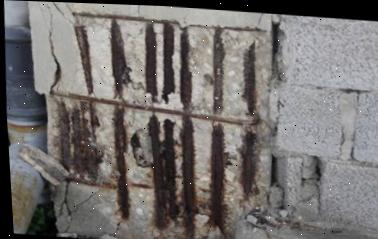exposed_rebar: (51, 92, 255, 124), (149, 115, 178, 228), (62, 100, 99, 179), (181, 114, 197, 237), (210, 121, 226, 228), (114, 105, 127, 218), (75, 25, 93, 94), (72, 12, 179, 23), (113, 21, 127, 97), (241, 129, 256, 198), (213, 27, 225, 112), (180, 27, 192, 109), (145, 22, 158, 97), (163, 22, 175, 101), (243, 44, 253, 116), (67, 177, 116, 187), (130, 183, 152, 188)
spalling: (51, 14, 270, 239)
